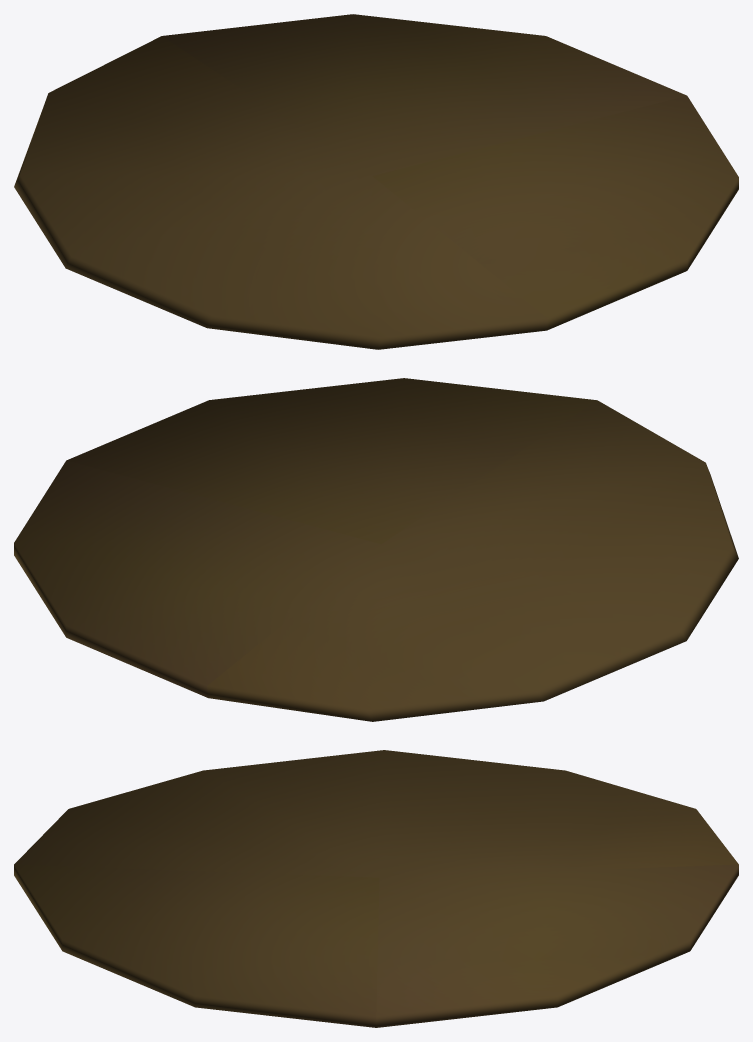
Rendered from stklib_fitchBarrel_a_bottom.glb.
3 renders of one model, top to bottom at view 1: azimuth 30°, elevation 25°; view 2: azimuth 150°, elevation 25°; view 3: azimuth 270°, elevation 25°, orthographic. The views are drawn at different scales.
Parts seen in each view (by area): view 1: stklib_fitchBarrel_ao_a.jpg__; view 2: stklib_fitchBarrel_ao_a.jpg__; view 3: stklib_fitchBarrel_ao_a.jpg__.
Part boxes in pixels (x1,y1,x2,y2): stklib_fitchBarrel_ao_a.jpg__: (14,14,738,349); stklib_fitchBarrel_ao_a.jpg__: (14,378,738,721); stklib_fitchBarrel_ao_a.jpg__: (14,750,738,1027).
Size of the model in its own units: 1.32 by 0.0511 by 1.43.
1 material, 1 textured.
